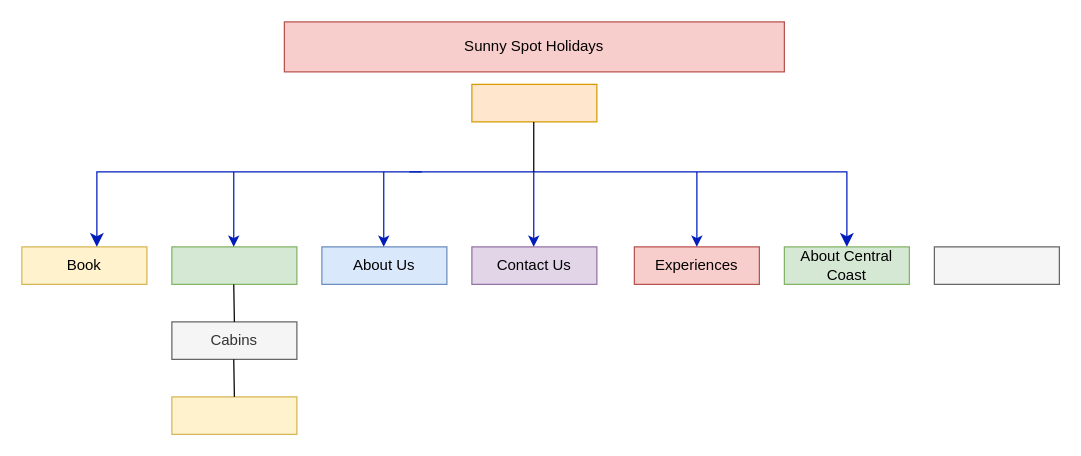
Image size: 1081x456. Some labels were removed from this diagram. The shapes that lost their labels are listed below. From the top down, each one's box as (x1, y1, x2, y2) in pixels, then its label:
(471, 83, 597, 122): Homepage
(171, 246, 297, 284): Accomodation
(933, 246, 1059, 284): Staff Login
(171, 396, 297, 434): Camp Sites
